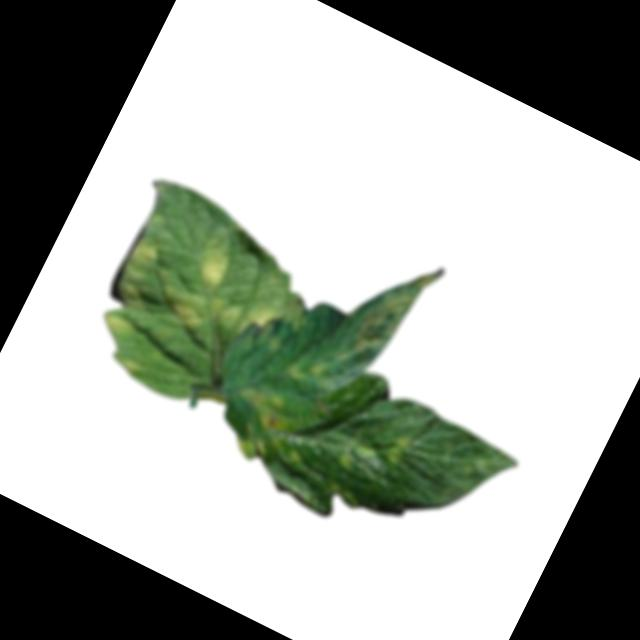Leaf_Mold: (229, 376, 300, 436), (213, 287, 278, 348), (180, 232, 239, 299), (155, 280, 215, 335), (228, 422, 276, 468), (125, 230, 168, 275), (281, 348, 326, 389), (98, 305, 139, 343), (380, 429, 414, 469)
